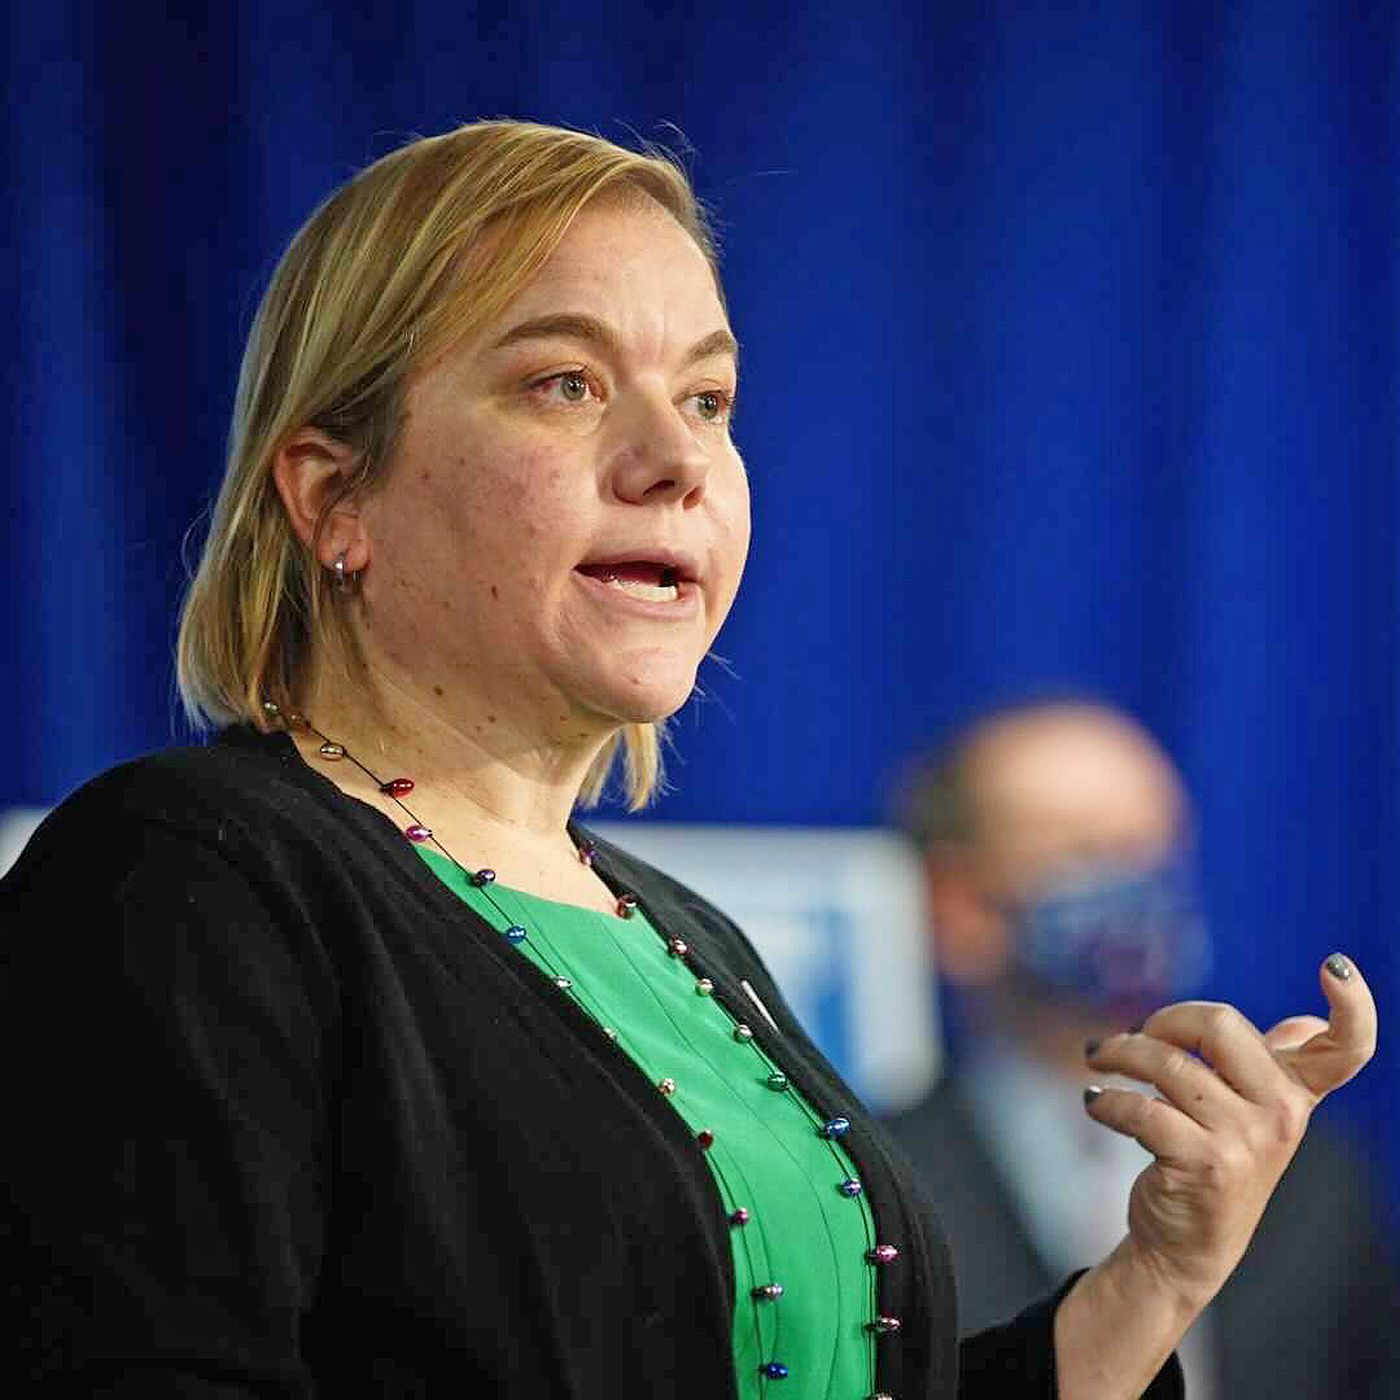person: (24, 107, 977, 1400)
